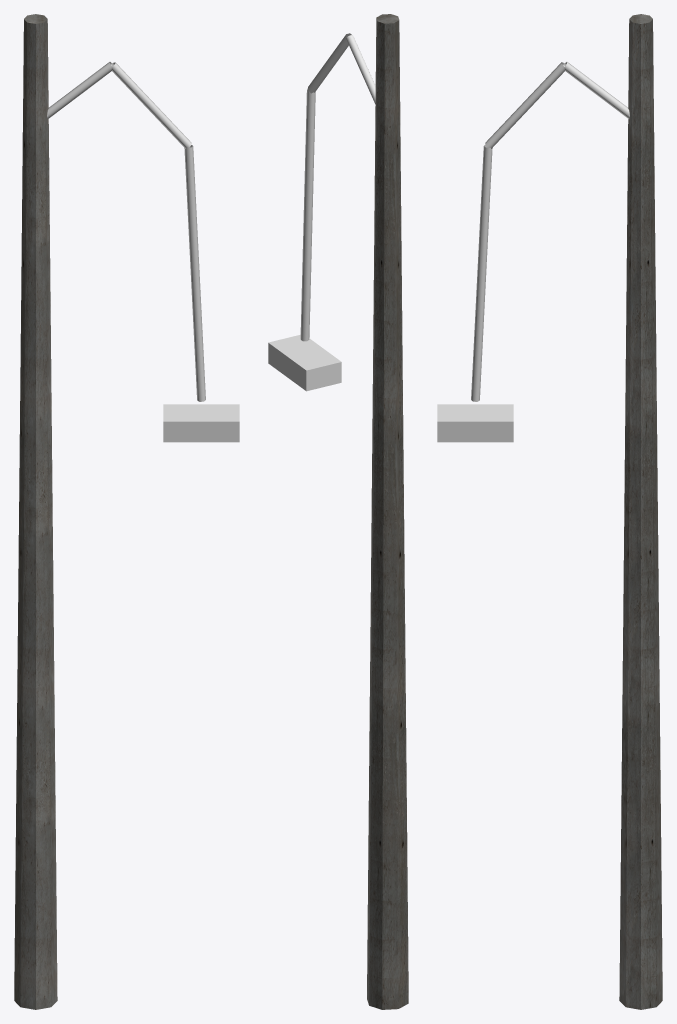
Rendered from S1U_StreetLamp_Broken.fbx.
The picture shows the model from 3 angles, left to right: view 1: azimuth 90°, elevation 25°; view 2: azimuth 210°, elevation 25°; view 3: azimuth 270°, elevation 25°; orthographic projection.
Parts seen in each view (by area): view 1: S1U_StreetLamp_Broken; view 2: S1U_StreetLamp_Broken; view 3: S1U_StreetLamp_Broken.
Part boxes in pixels (box(x1,y1,x2,y2)): S1U_StreetLamp_Broken: box(14, 14, 239, 1009); S1U_StreetLamp_Broken: box(268, 14, 408, 1009); S1U_StreetLamp_Broken: box(437, 14, 662, 1009).
Size of the model in its own units: 0.34 by 8.5 by 1.77.
